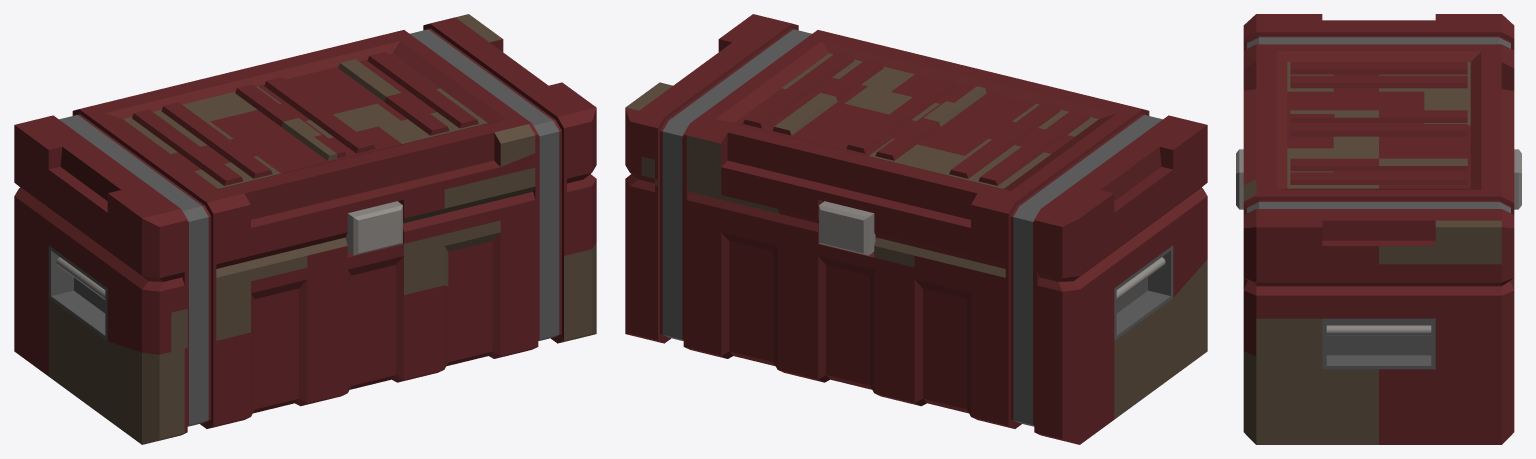
Rendered from chest.glb.
The picture shows the model from 3 angles, left to right: view 1: azimuth 30°, elevation 25°; view 2: azimuth 150°, elevation 25°; view 3: azimuth 270°, elevation 25°; orthographic projection. The views are drawn at different scales.
Parts seen in each view (by area): view 1: Chest_Special; view 2: Chest_Special; view 3: Chest_Special.
Part boxes in pixels (x1,y1,x2,y2): Chest_Special: (14, 14, 596, 444); Chest_Special: (625, 14, 1207, 444); Chest_Special: (1236, 14, 1521, 444).
Size of the model in its own units: 0.8524 by 0.4062 by 0.483.
1 material, 1 textured.
